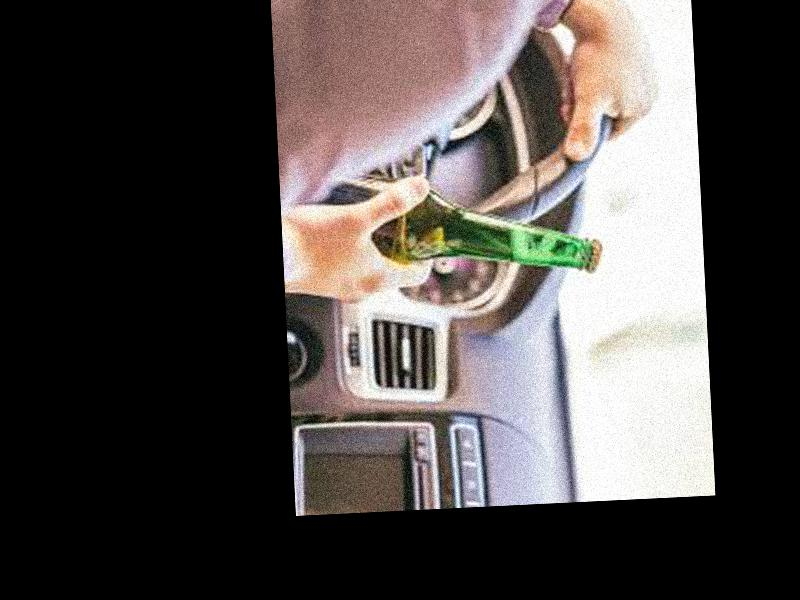Beer: (311, 164, 605, 287)
